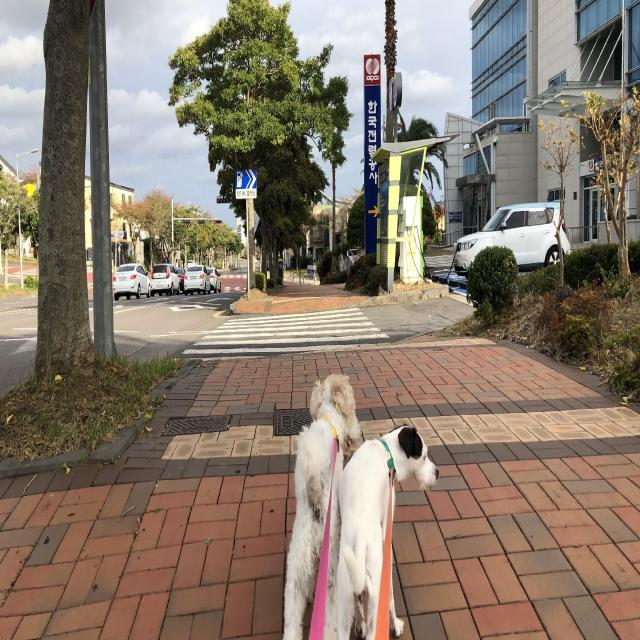횡단보도: (180, 306, 390, 355)
